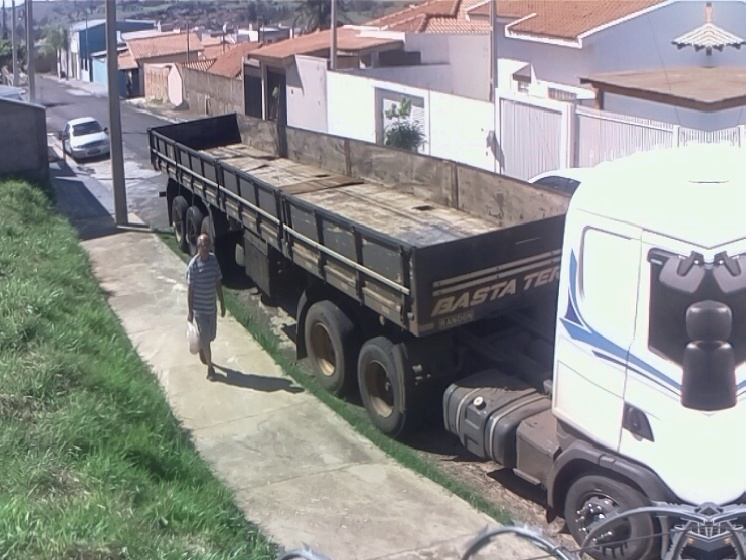person: (184, 231, 230, 384)
